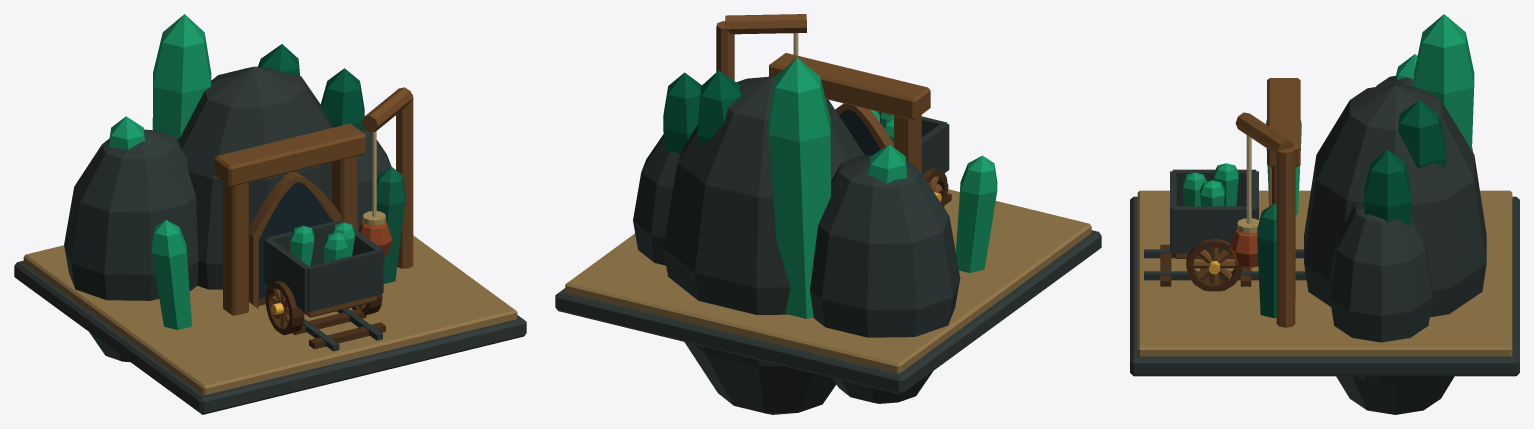
File: gem_mine.glb
The picture shows the model from 3 angles, left to right: view 1: azimuth 30°, elevation 25°; view 2: azimuth 150°, elevation 25°; view 3: azimuth 270°, elevation 25°; orthographic projection. The views are drawn at different scales.
Parts seen in each view (by area): view 1: gem_mine_structure; view 2: gem_mine_structure; view 3: gem_mine_structure.
Part boxes in pixels (left/top/right/bottom): gem_mine_structure: left=14, top=14, right=526, bottom=414; gem_mine_structure: left=555, top=14, right=1101, bottom=414; gem_mine_structure: left=1130, top=14, right=1519, bottom=414.
Size of the model in its own units: 3.6 by 3.83 by 3.6.
